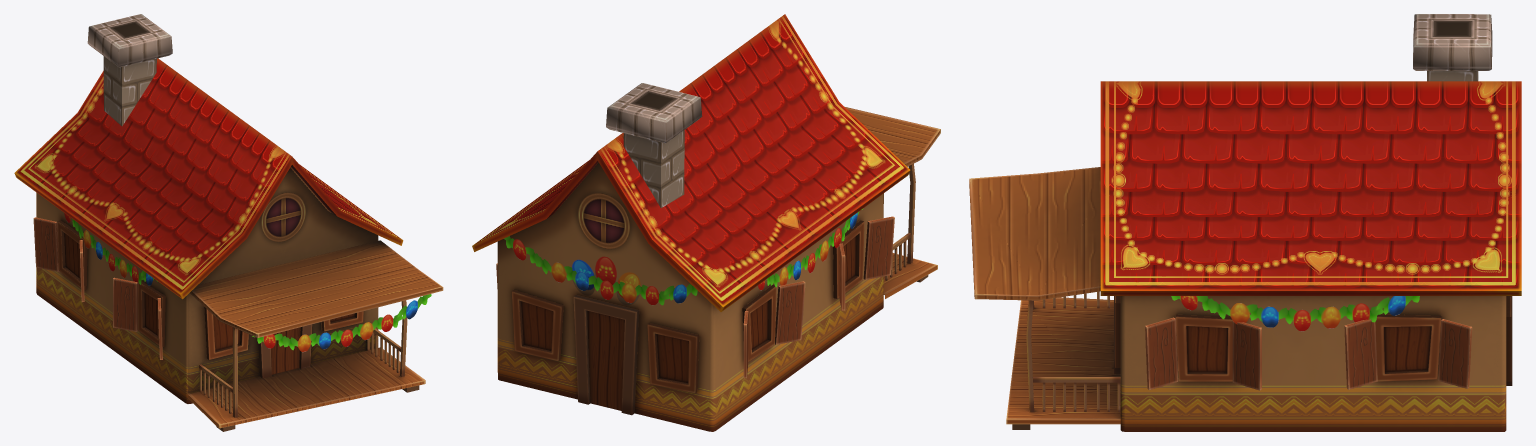
The model's file is House_03_F.FBX.
The picture shows the model from 3 angles, left to right: view 1: azimuth 30°, elevation 25°; view 2: azimuth 150°, elevation 25°; view 3: azimuth 270°, elevation 25°; orthographic projection. The views are drawn at different scales.
Visible parts, largest first — view 1: House_03, Egg_Rope_House_03; view 2: House_03, Egg_Rope_House_03; view 3: House_03, Egg_Rope_House_03.
Boxes of the visible parts, x1=… form: House_03: x1=14, y1=14, x2=443, y2=431; Egg_Rope_House_03: x1=64, y1=213, x2=431, y2=352; House_03: x1=472, y1=14, x2=940, y2=431; Egg_Rope_House_03: x1=504, y1=208, x2=863, y2=305; House_03: x1=969, y1=14, x2=1521, y2=431; Egg_Rope_House_03: x1=1171, y1=296, x2=1419, y2=331.
Size of the model in its own units: 146 by 158 by 240.
